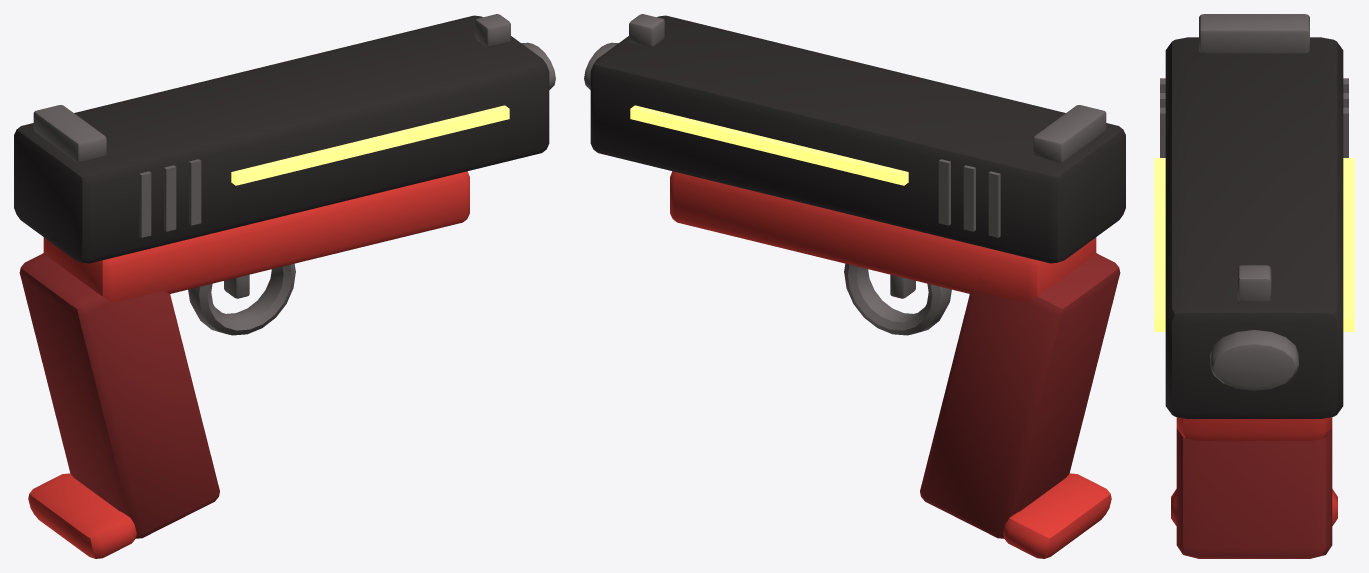
File: SGP_Pistol_Inferno.fbx
The picture shows the model from 3 angles, left to right: view 1: azimuth 30°, elevation 25°; view 2: azimuth 150°, elevation 25°; view 3: azimuth 270°, elevation 25°; orthographic projection. The views are drawn at different scales.
Parts seen in each view (by area): view 1: SGP_Pistol_Inferno; view 2: SGP_Pistol_Inferno; view 3: SGP_Pistol_Inferno.
Boxes of the visible parts, x1=… form: SGP_Pistol_Inferno: x1=14, y1=14, x2=555, y2=558; SGP_Pistol_Inferno: x1=584, y1=14, x2=1125, y2=558; SGP_Pistol_Inferno: x1=1154, y1=14, x2=1354, y2=558.
Bounding box in the file's own units: 0.199 × 0.1593 × 0.0576.
